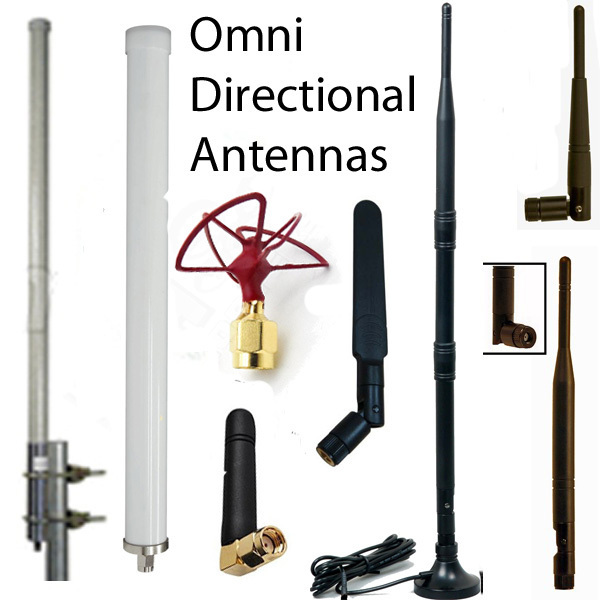sa: (112, 13, 184, 570)
